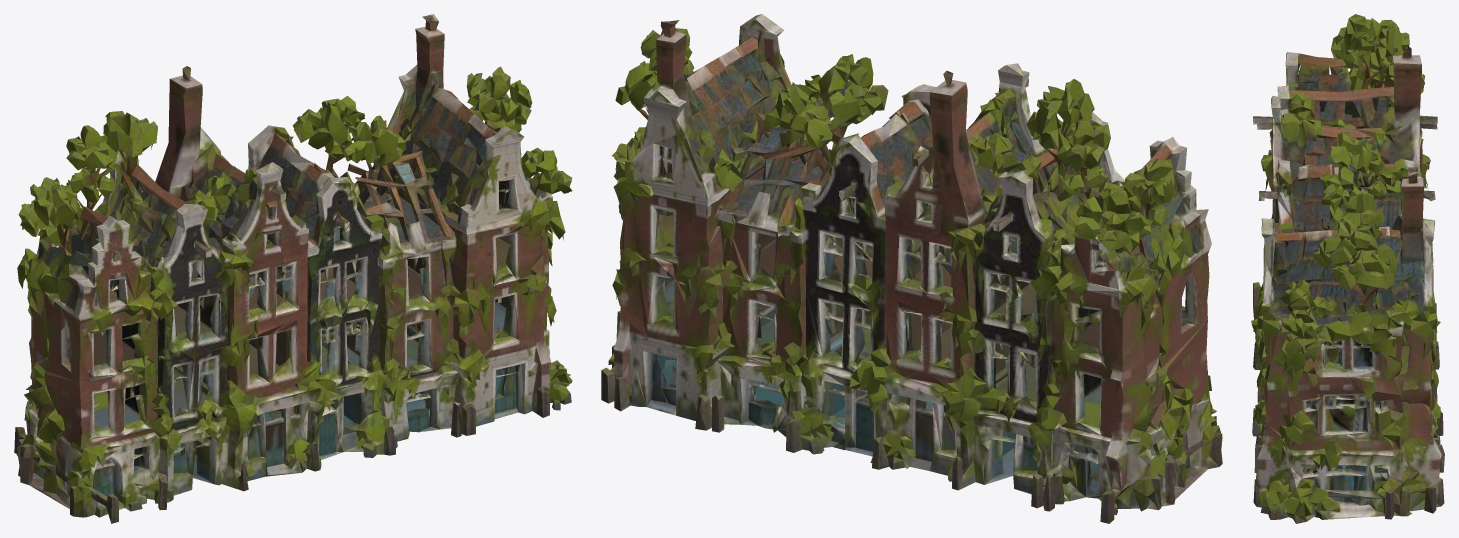
Rendered from cityRow.glb.
3 views of the same model, side by side, from view 1: azimuth 30°, elevation 25°; view 2: azimuth 150°, elevation 25°; view 3: azimuth 270°, elevation 25° (orthographic). The views are drawn at different scales.
Visible parts, largest first — view 1: output_unwrapped; view 2: output_unwrapped; view 3: output_unwrapped.
Part boxes in pixels (bbox=[...]): output_unwrapped: bbox=[14, 14, 572, 523]; output_unwrapped: bbox=[601, 14, 1222, 523]; output_unwrapped: bbox=[1251, 14, 1444, 523].
Bounding box in the file's own units: 1.89 × 1.27 × 0.671.
1 material, 1 textured.
